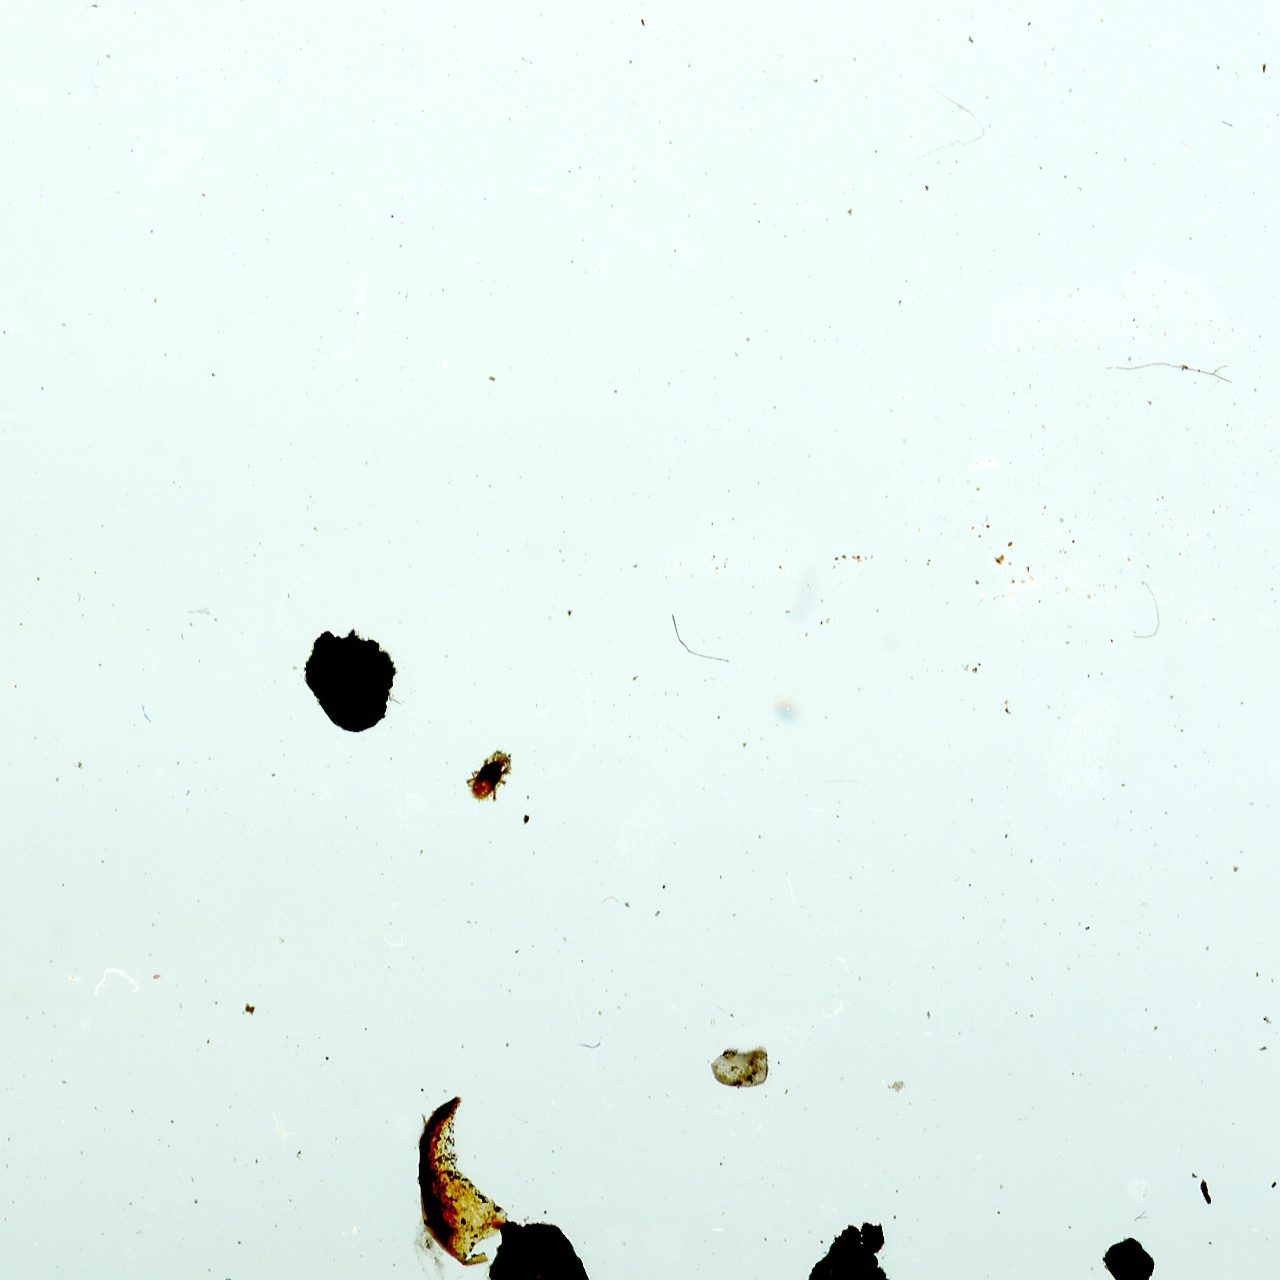arthropod: (452, 734, 529, 817)
